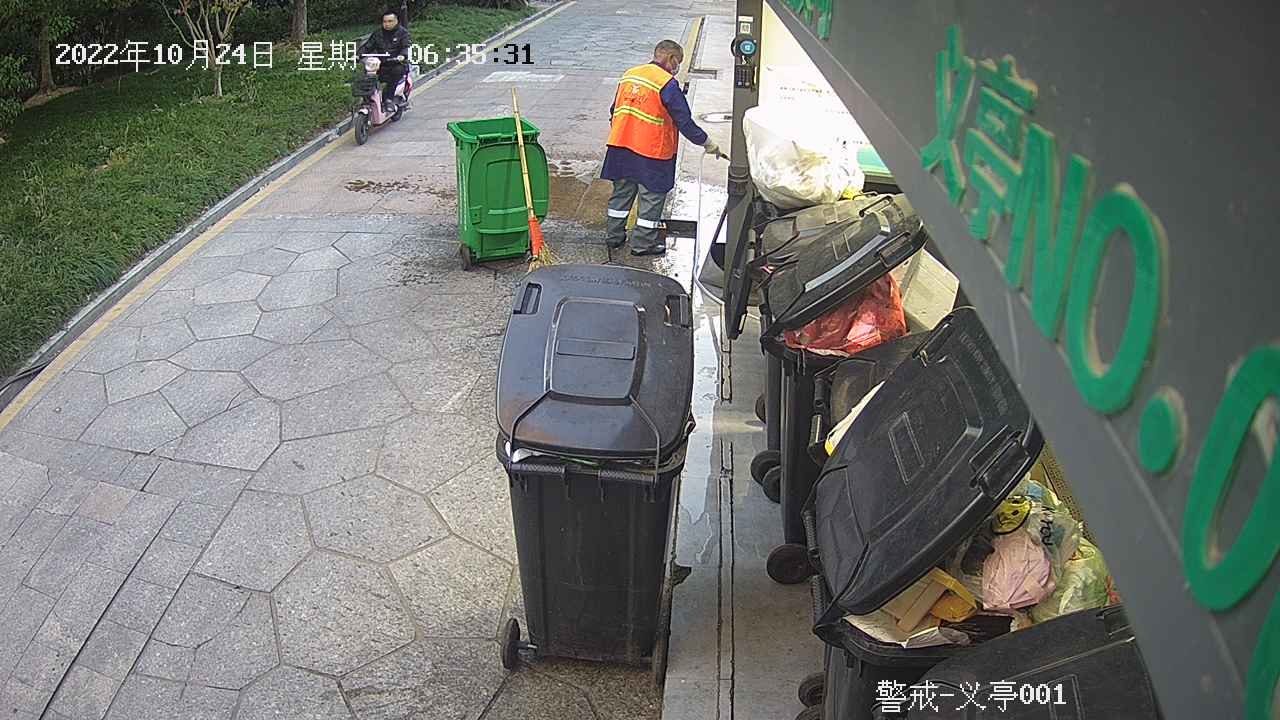person: (344, 6, 417, 121)
worker: (595, 34, 725, 262)
